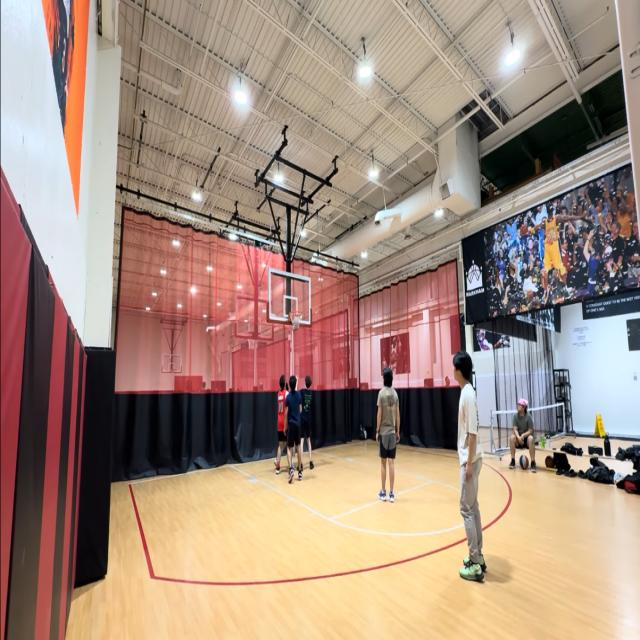Basketball Rim: (289, 310, 303, 329)
